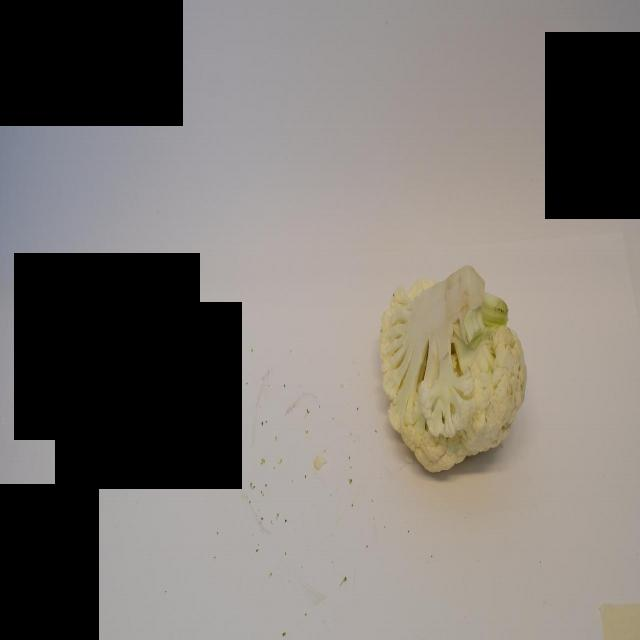cauliflower: (380, 261, 528, 475)
